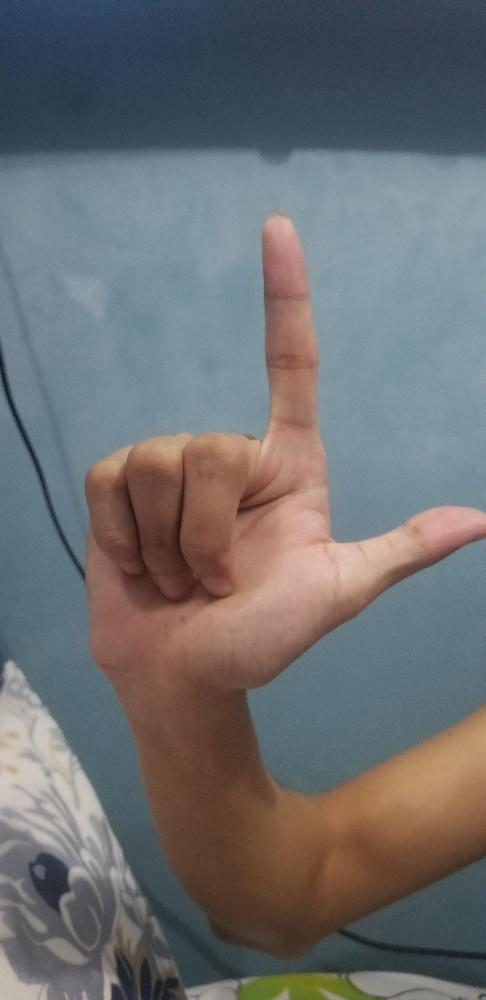l: (81, 205, 485, 695)
